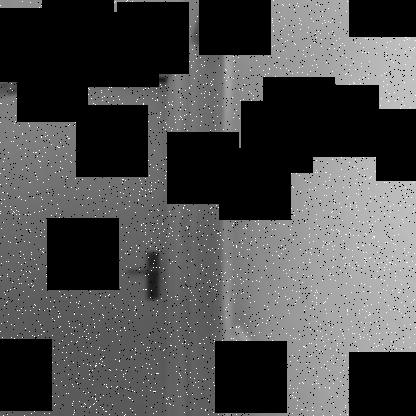Porte: (0, 51, 189, 416)
